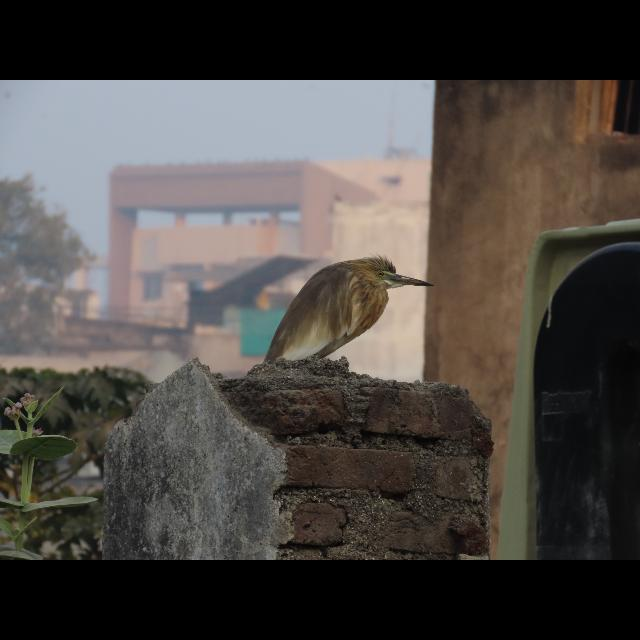heron: (262, 256, 432, 378)
